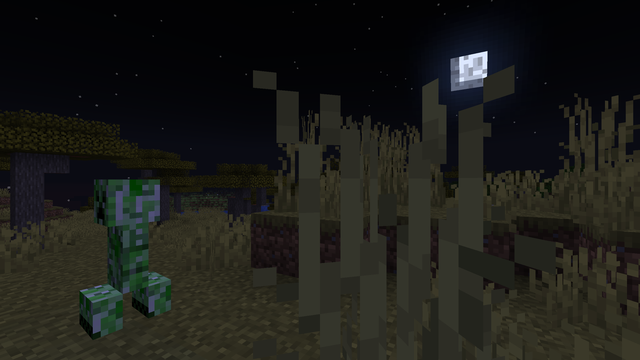creepers: (84, 172, 167, 337)
